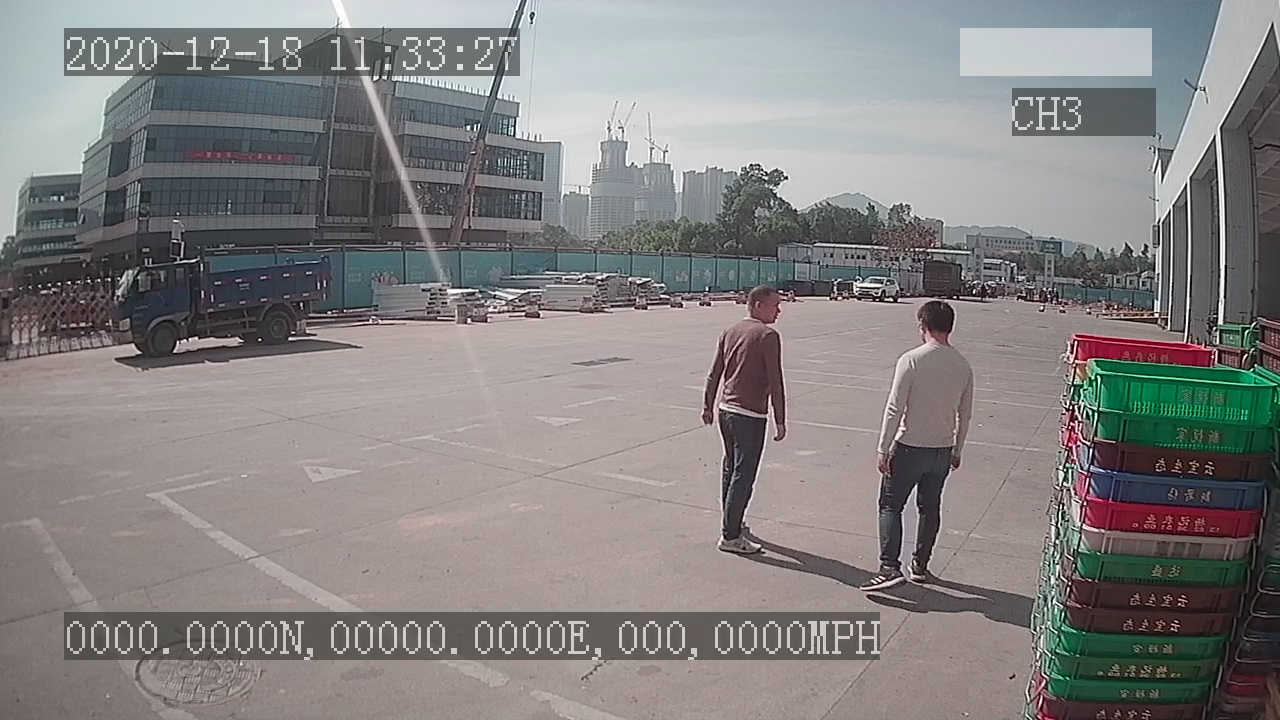person: (861, 298, 974, 595), (701, 281, 791, 556)
